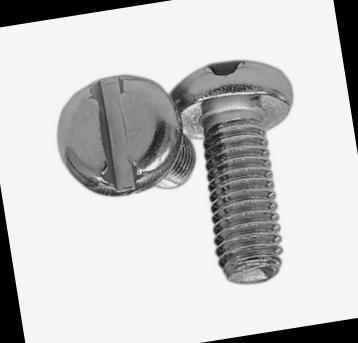screw: (46, 66, 190, 204)
